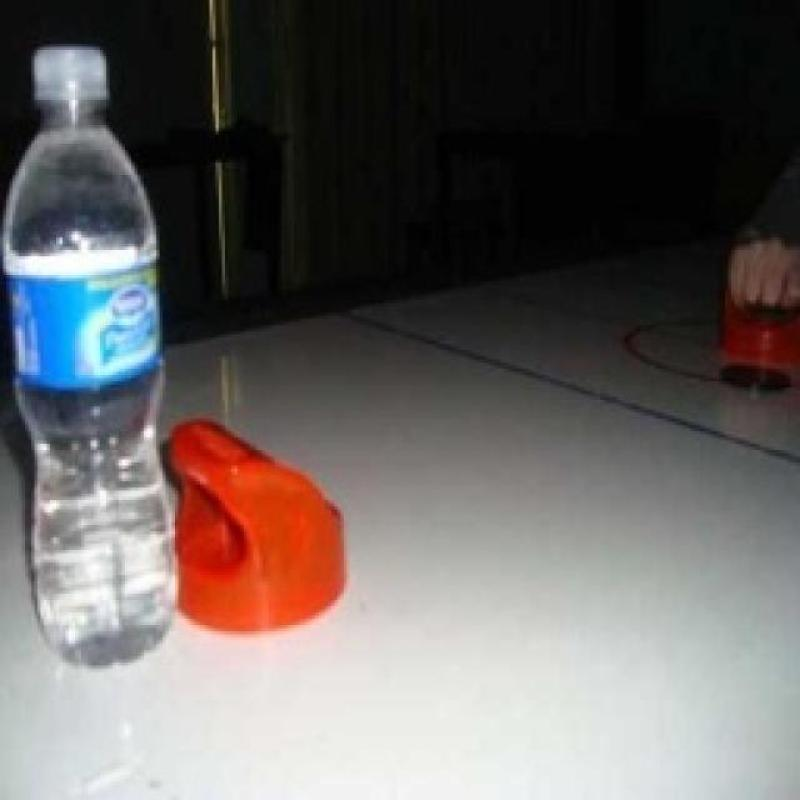botella: (0, 42, 181, 668)
